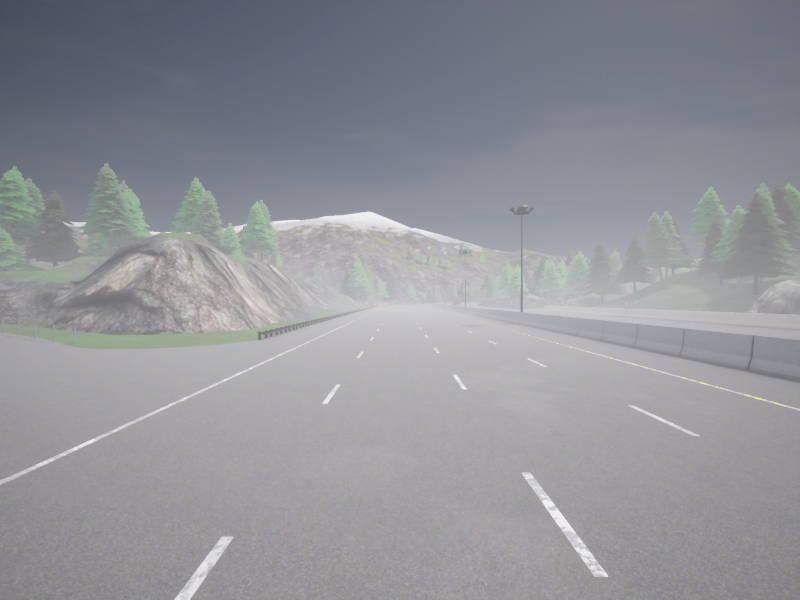vehicle: (453, 297, 461, 304)
